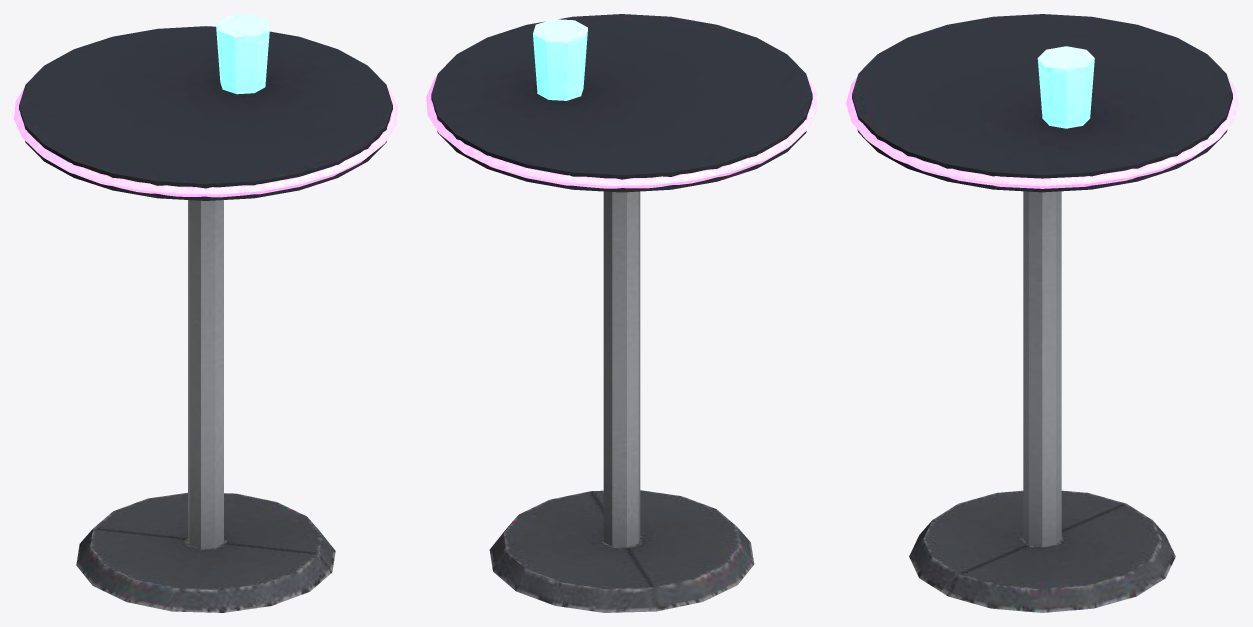
File: mesa_alta_neon.glb
3 renders of one model, left to right at view 1: azimuth 30°, elevation 25°; view 2: azimuth 150°, elevation 25°; view 3: azimuth 270°, elevation 25°, orthographic. The views are drawn at different scales.
Visible parts, largest first — view 1: mesa_alta_neon; view 2: mesa_alta_neon; view 3: mesa_alta_neon.
Boxes of the visible parts, x1,y1,x2,y2 form: mesa_alta_neon: (14, 14, 397, 612); mesa_alta_neon: (426, 14, 817, 612); mesa_alta_neon: (846, 14, 1238, 612).
Size of the model in its own units: 0.824 by 1.21 by 0.824.
Materials: 1 (1 with a texture image).
